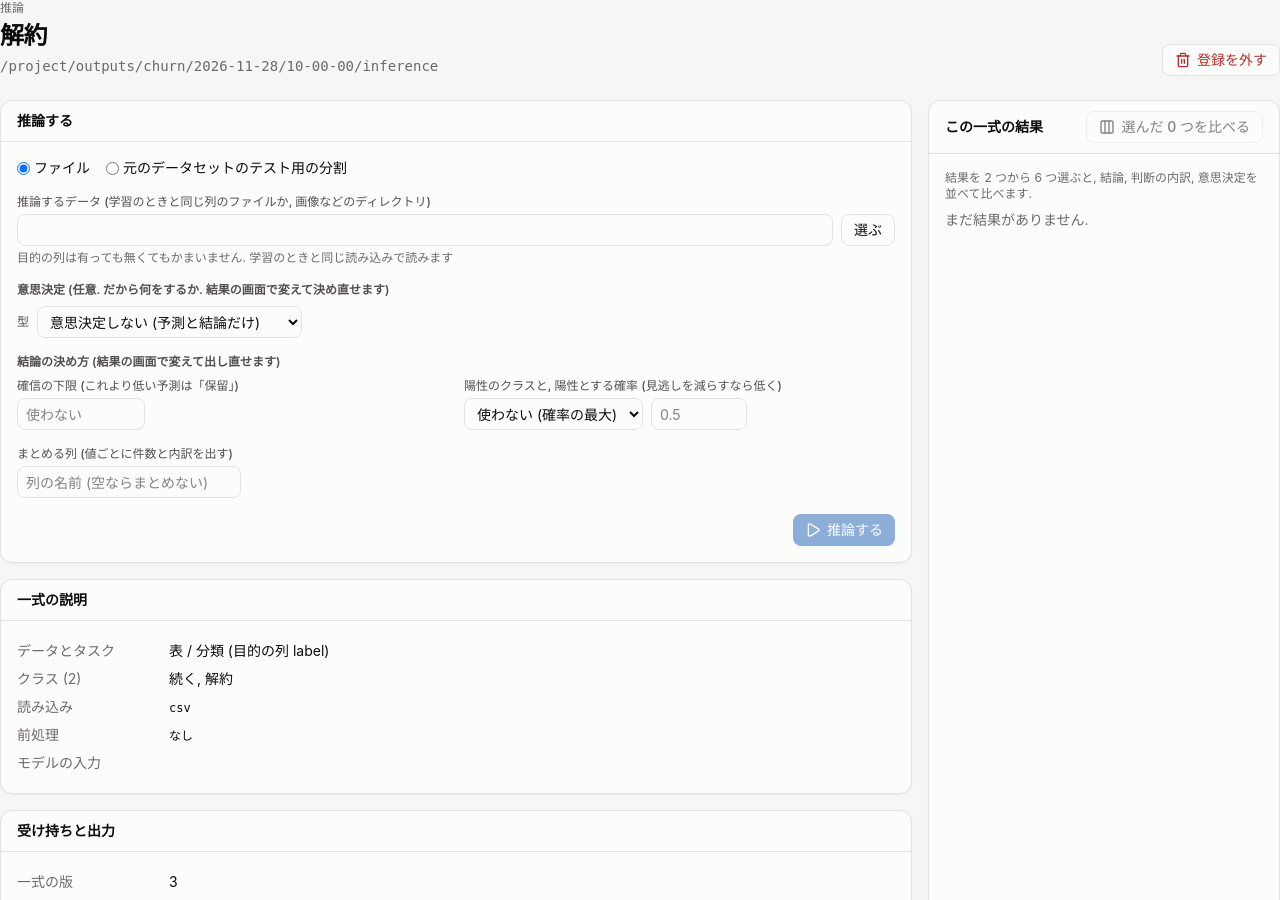
Scenario: 元のデータセットのテスト用の分割 › 選ぶと場所の欄の代わりに分割を出し, 名前だけを送って推論する
Click the radio button labelled "元のデータセットのテスト用の分割": (112, 168) [106,162,119,174]
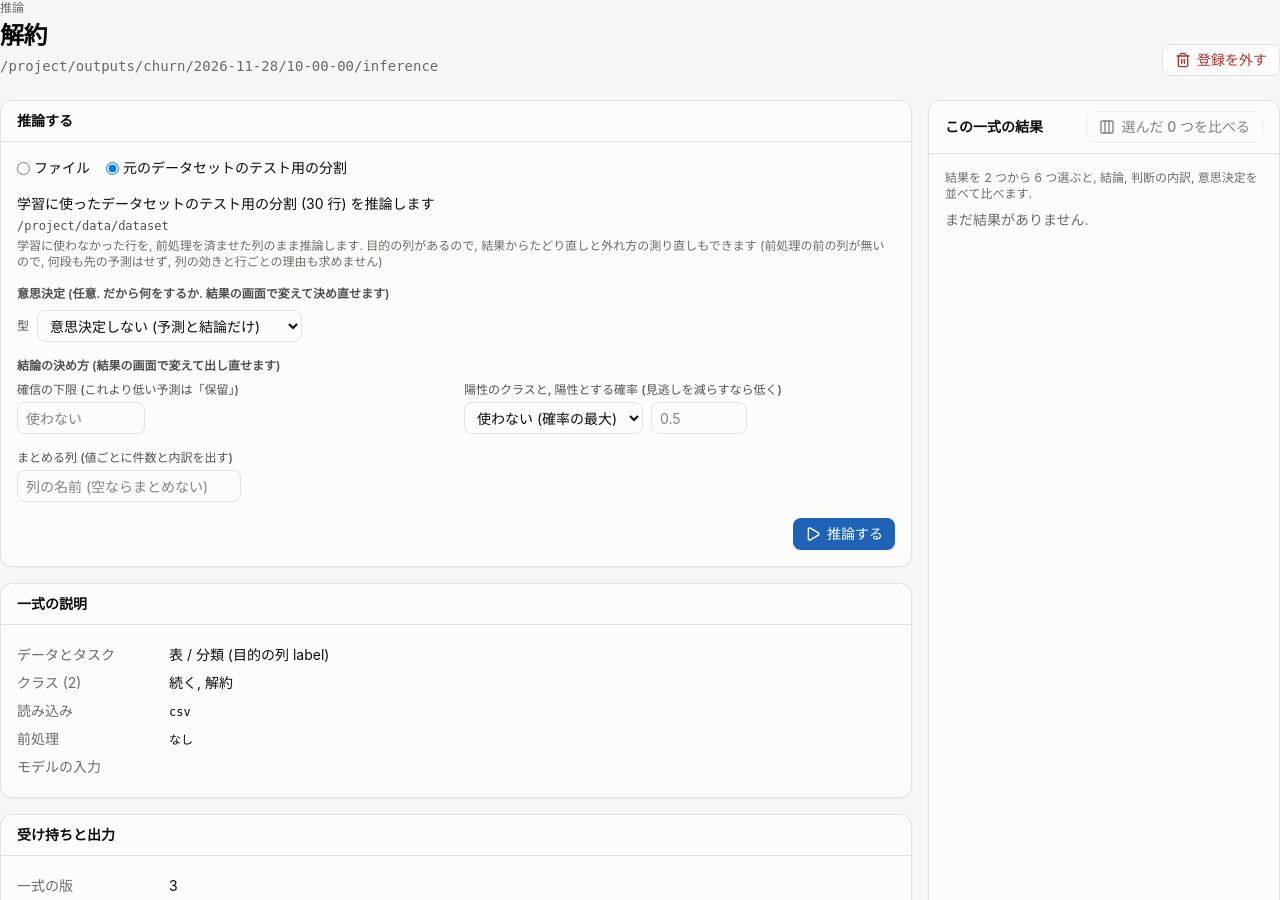
Expected: the element "テスト用の分割" shows "(30 行)", [297,195,350,212]
Expected: the element "テスト用の分割" shows "/project/data/dataset", [17,219,169,233]
Expected: the label labelled "推論するデータ (" is gone
Click the button "推論する": (844, 534) [793,518,895,550]
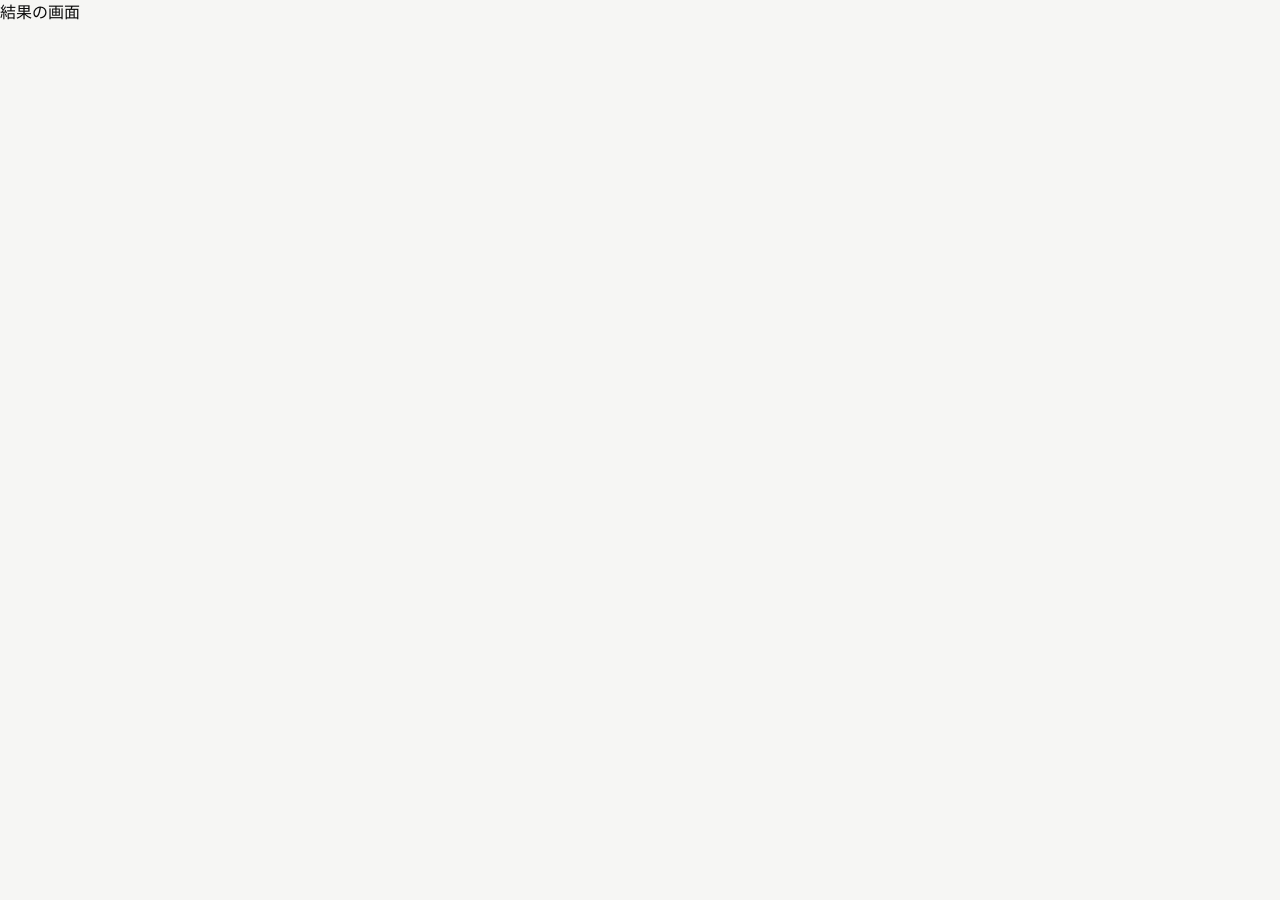
Expected: the text "結果の画面" is shown, [0,2,80,22]
